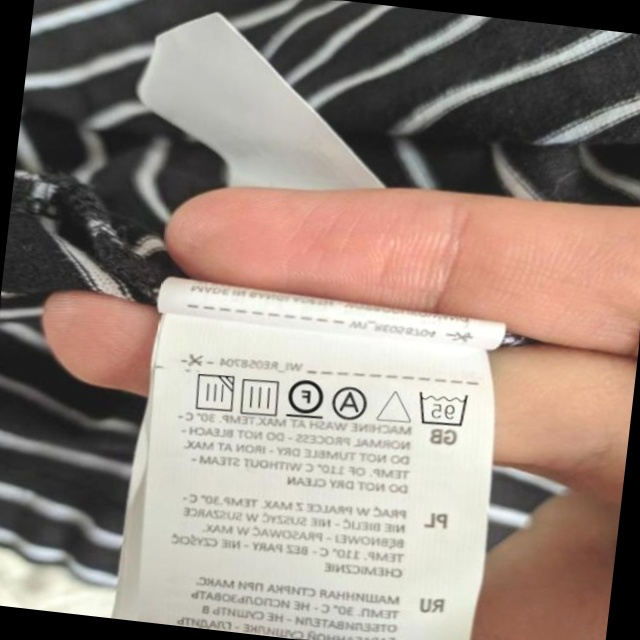95C: (412, 385, 472, 431)
bleach: (375, 383, 414, 428)
drip_dry: (236, 373, 284, 419)
drip_dry_in_shade: (188, 368, 237, 417)
dry_clean: (330, 382, 372, 423)
dry_clean_petrol_only: (283, 372, 327, 422)
